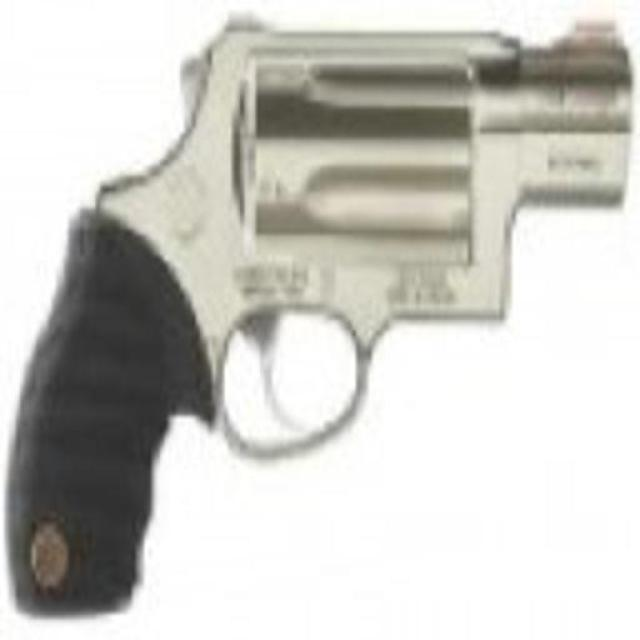pistol: (4, 15, 628, 617)
